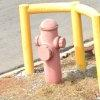a fire hydrant: (32, 19, 68, 85)
